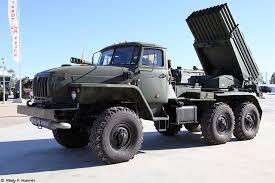MIL_SAM_TEL: (27, 3, 266, 155)
